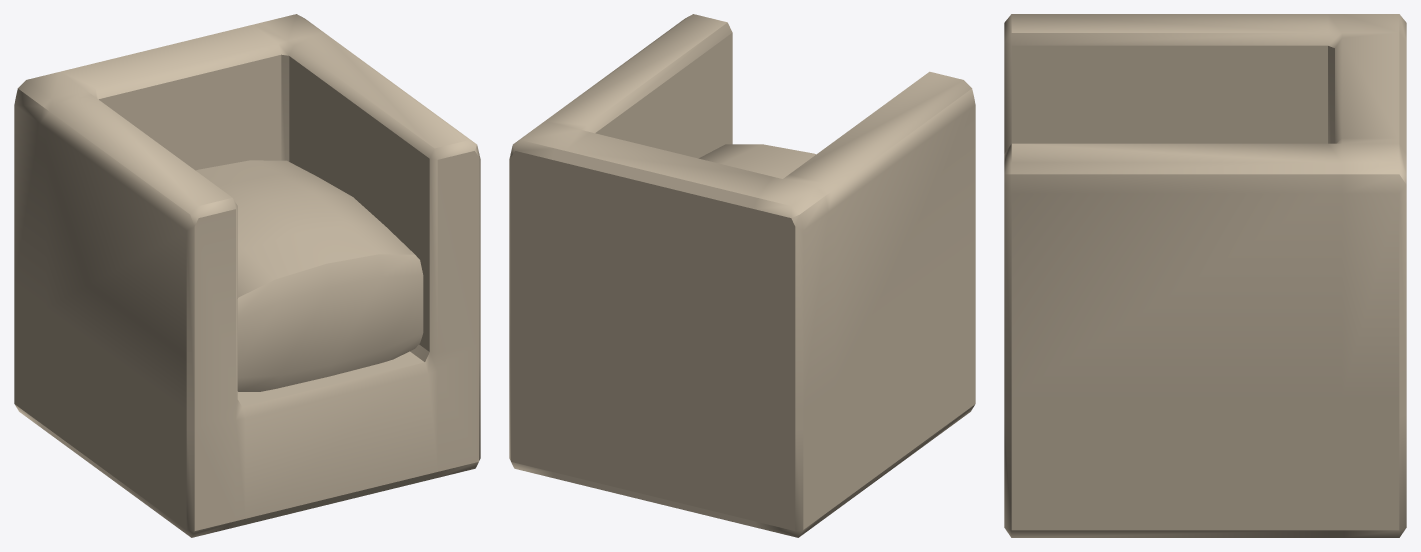
File: pk_reclc_beige.glb
3 renders of one model, left to right at view 1: azimuth 30°, elevation 25°; view 2: azimuth 150°, elevation 25°; view 3: azimuth 270°, elevation 25°, orthographic. The views are drawn at different scales.
Visible parts, largest first — view 1: pk_reclc_beige; view 2: pk_reclc_beige; view 3: pk_reclc_beige.
Part boxes in pixels (box(x1,y1,x2,y2)): pk_reclc_beige: box(14, 14, 480, 537); pk_reclc_beige: box(509, 14, 975, 537); pk_reclc_beige: box(1004, 14, 1406, 537).
Size of the model in its own units: 0.95 by 1.02 by 1.
1 material, 1 textured.
